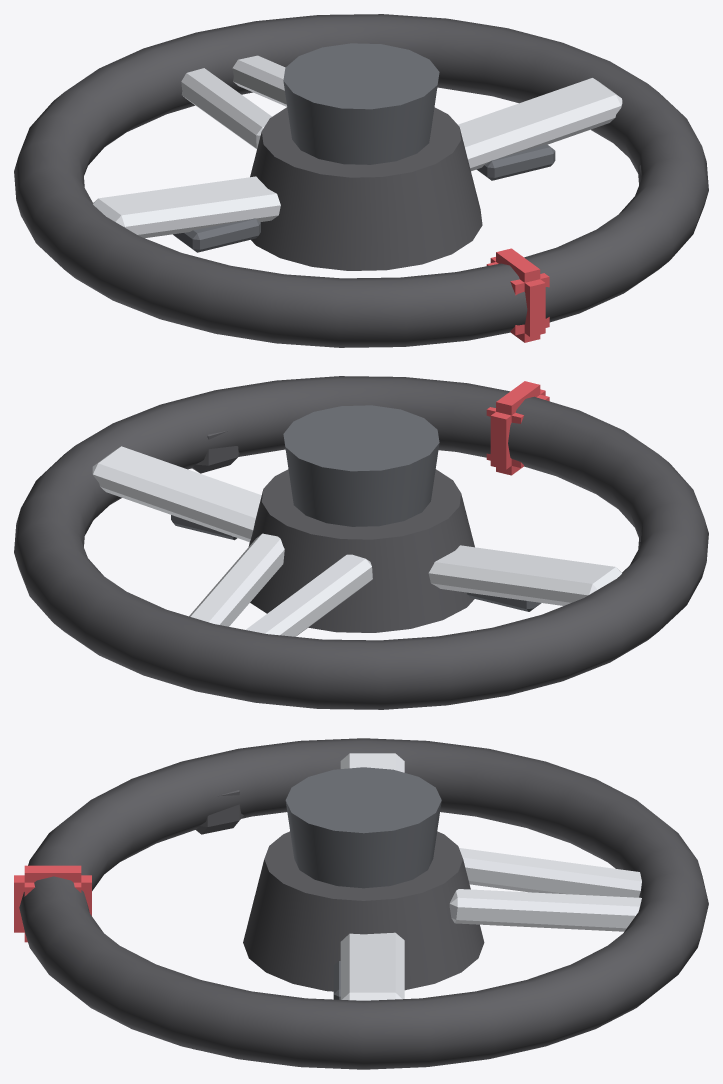
The model's file is OW_SteeringWheel.fbx.
3 views of the same model, one above another, from view 1: azimuth 30°, elevation 25°; view 2: azimuth 150°, elevation 25°; view 3: azimuth 270°, elevation 25° (orthographic).
Parts seen in each view (by area): view 1: OW_SteeringWheel; view 2: OW_SteeringWheel; view 3: OW_SteeringWheel.
Boxes of the visible parts, <box> form: OW_SteeringWheel: <box>14,14,708,347</box>; OW_SteeringWheel: <box>14,376,708,709</box>; OW_SteeringWheel: <box>14,738,708,1069</box>.
Bounding box in the file's own units: 0.389 × 0.094 × 0.3915.
